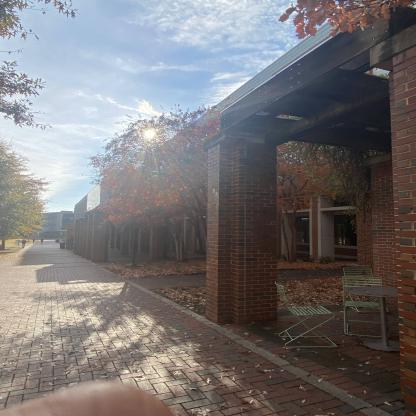EB-1: (54, 95, 416, 295)
